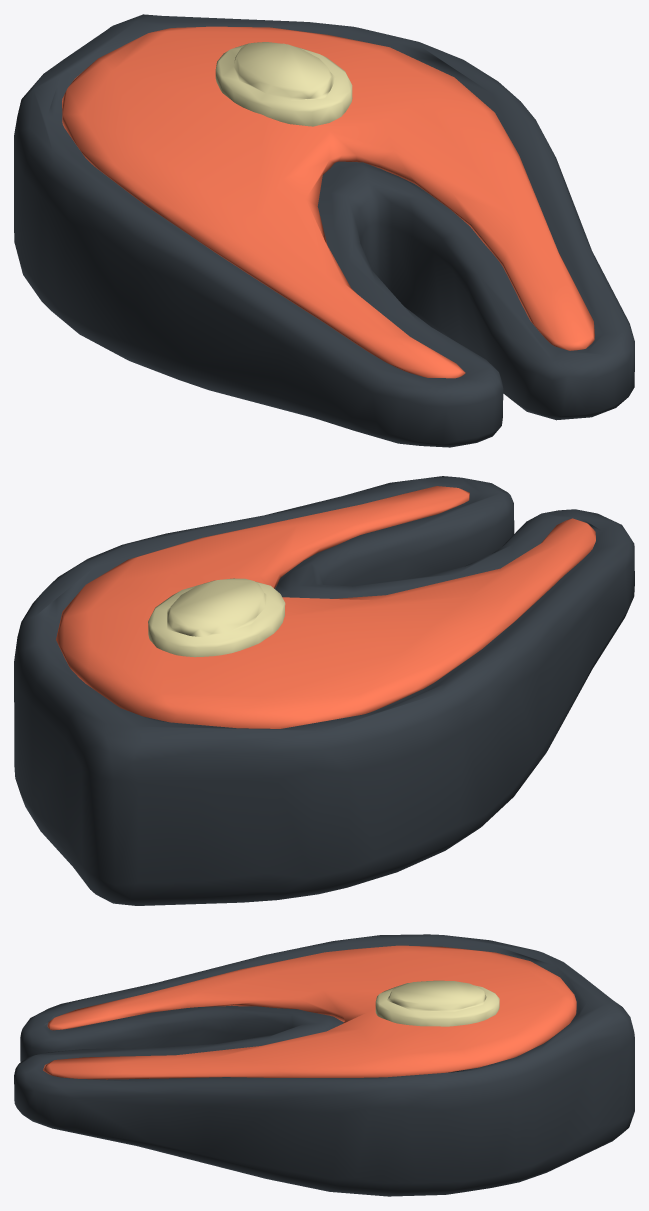
The model's file is Food (5).fbx.
3 renders of one model, top to bottom at view 1: azimuth 30°, elevation 25°; view 2: azimuth 150°, elevation 25°; view 3: azimuth 270°, elevation 25°, orthographic. The views are drawn at different scales.
Parts seen in each view (by area): view 1: Plane.024; view 2: Plane.024; view 3: Plane.024.
Boxes of the visible parts, x1,y1,x2,y2 form: Plane.024: [14, 14, 634, 447]; Plane.024: [14, 476, 634, 905]; Plane.024: [14, 934, 634, 1196].
Size of the model in its own units: 10.77 by 5 by 18.12.
